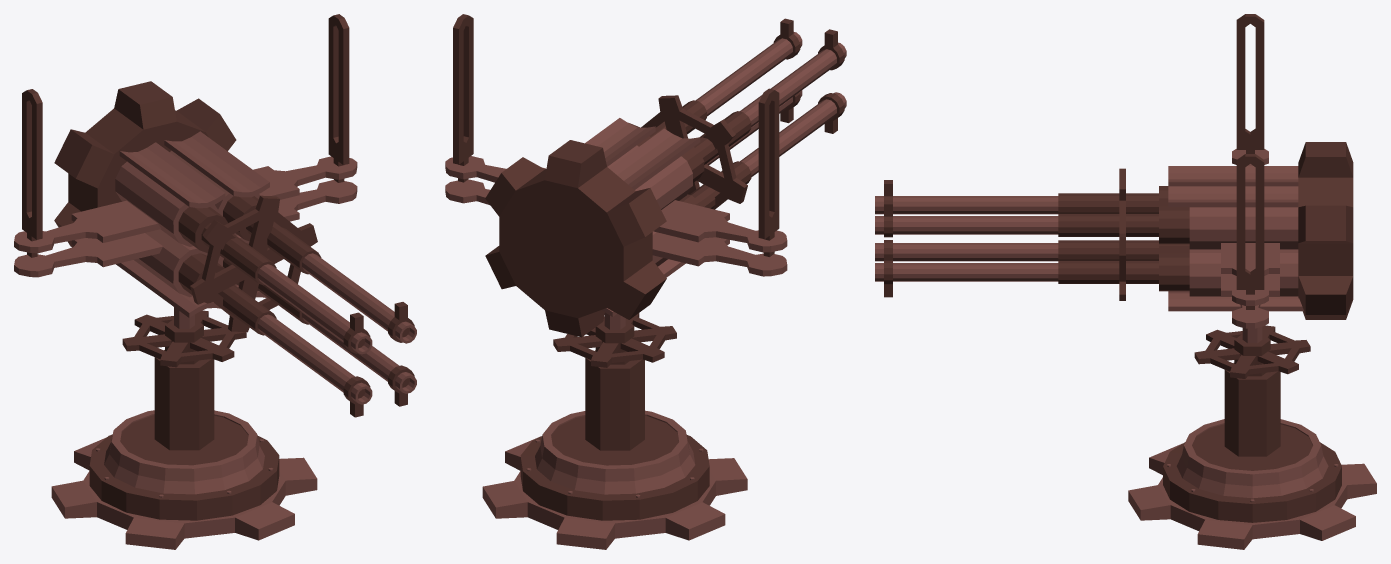
Rendered from gun_9.glb.
The picture shows the model from 3 angles, left to right: view 1: azimuth 30°, elevation 25°; view 2: azimuth 150°, elevation 25°; view 3: azimuth 270°, elevation 25°; orthographic projection. The views are drawn at different scales.
Parts seen in each view (by area): view 1: _MeshInstance3D_188, _MeshInstance3D_187, _MeshInstance3D_189; view 2: _MeshInstance3D_188, _MeshInstance3D_187, _MeshInstance3D_189; view 3: _MeshInstance3D_188, _MeshInstance3D_187, _MeshInstance3D_189.
Boxes of the visible parts, x1,y1,x2,y2 form: _MeshInstance3D_188: [14, 14, 416, 417]; _MeshInstance3D_187: [51, 410, 317, 549]; _MeshInstance3D_189: [122, 307, 246, 450]; _MeshInstance3D_188: [445, 14, 846, 337]; _MeshInstance3D_187: [482, 410, 747, 549]; _MeshInstance3D_189: [553, 312, 676, 450]; _MeshInstance3D_188: [875, 14, 1353, 328]; _MeshInstance3D_187: [1128, 419, 1376, 549]; _MeshInstance3D_189: [1194, 325, 1310, 456].
Size of the model in its own units: 2.02 by 2.53 by 2.78.
